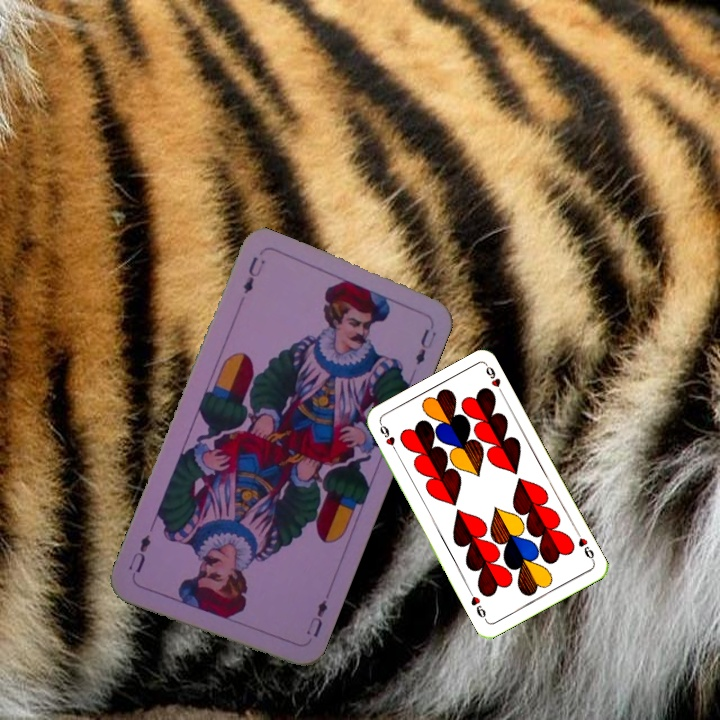EU: (301, 590, 332, 640), (239, 252, 268, 297)
H9: (572, 527, 597, 565), (376, 419, 401, 457)
